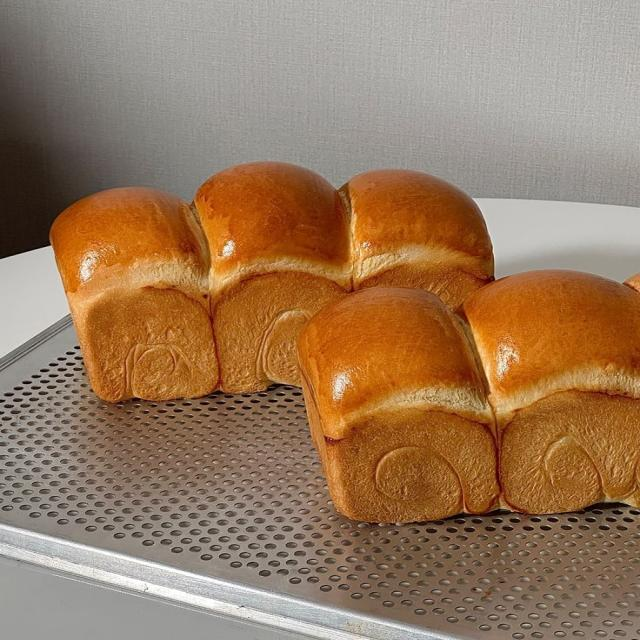bread: (52, 162, 493, 399), (299, 288, 499, 522), (464, 270, 639, 513), (194, 162, 350, 393), (51, 188, 218, 401), (340, 170, 493, 310), (625, 273, 639, 291)
